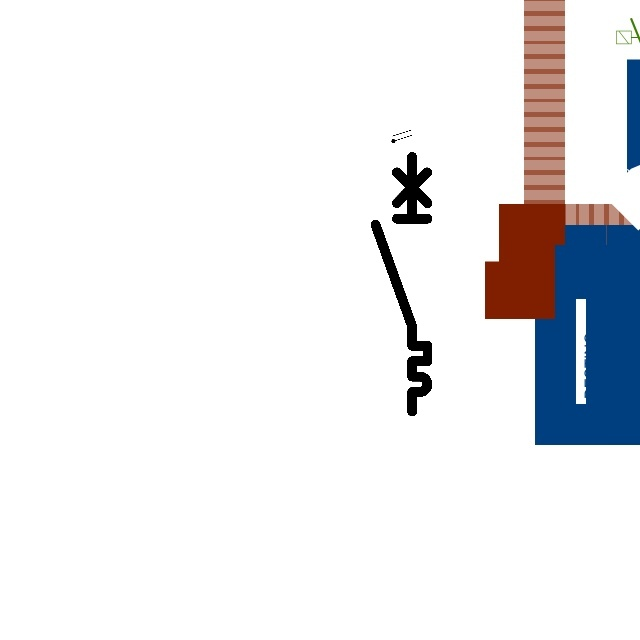interruptor_termomagnetico: (369, 150, 434, 418)
